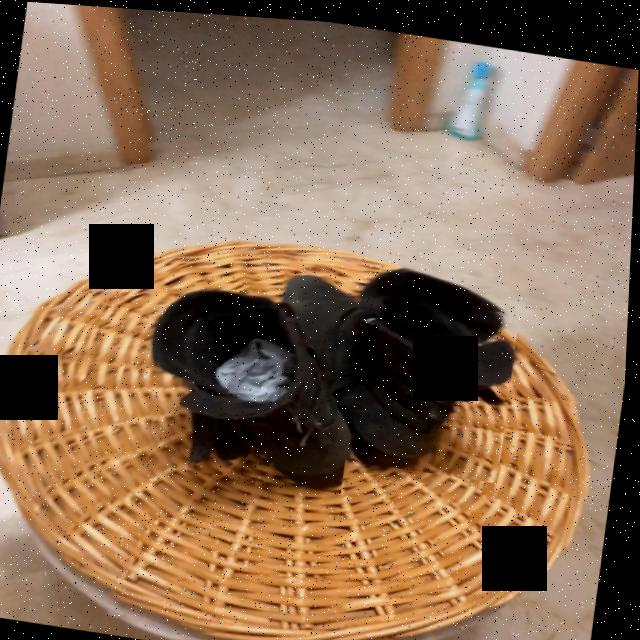shoe: (285, 272, 517, 462), (162, 288, 352, 484)
